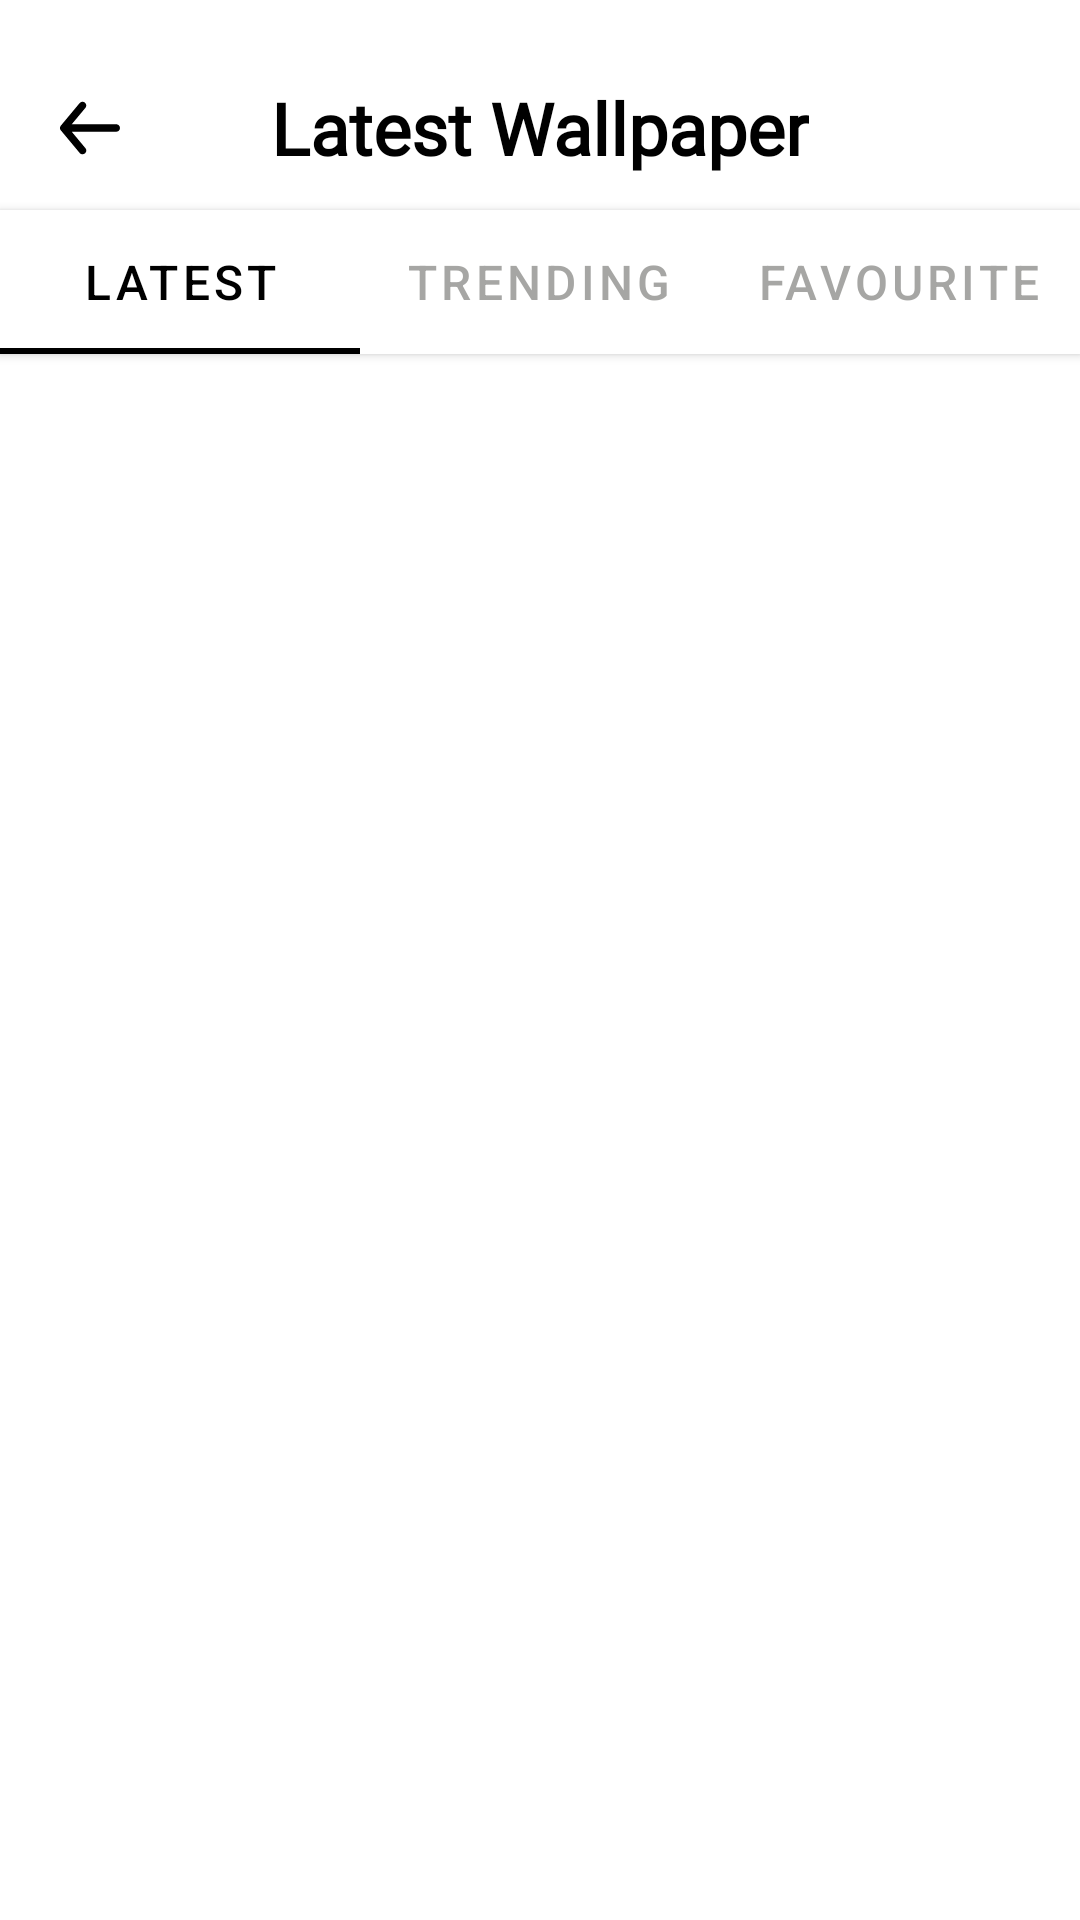

Where to tap for icons on this 1080w x 1920h app screen, as [x,y]:
arrow back: [90,128]
